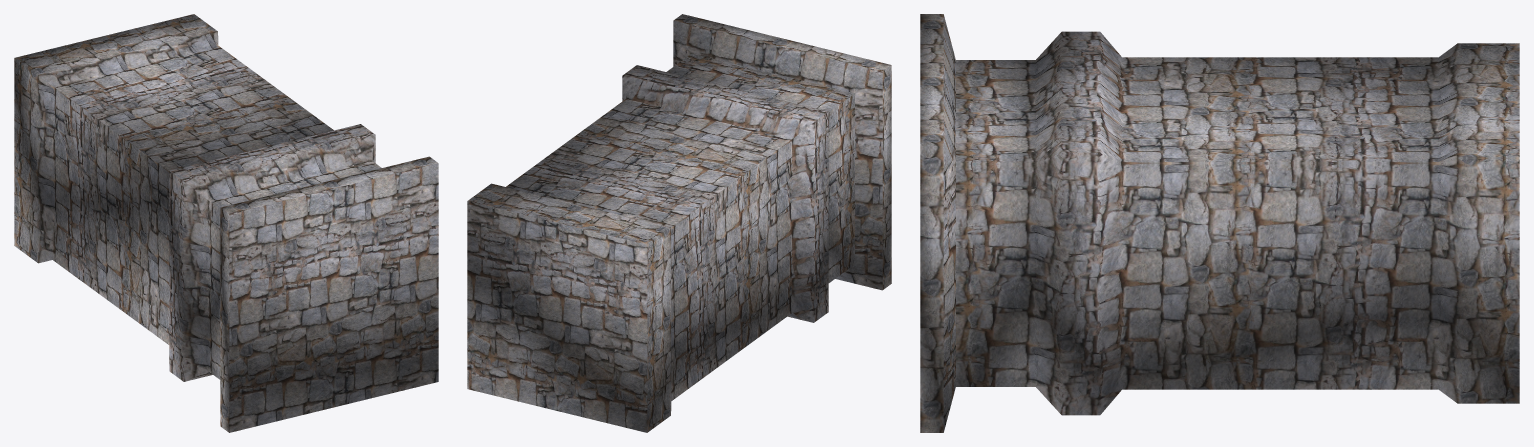
Rendered from castle_tower.fbx.
The picture shows the model from 3 angles, left to right: view 1: azimuth 30°, elevation 25°; view 2: azimuth 150°, elevation 25°; view 3: azimuth 270°, elevation 25°; orthographic projection. The views are drawn at different scales.
Parts seen in each view (by area): view 1: CastleTower; view 2: CastleTower; view 3: CastleTower.
Part boxes in pixels (x1=…): CastleTower: x1=14, y1=14, x2=438, y2=432; CastleTower: x1=467, y1=14, x2=891, y2=432; CastleTower: x1=920, y1=14, x2=1519, y2=432.
Size of the model in its own units: 2.35 by 2.35 by 4.46.
1 material, 1 textured.
